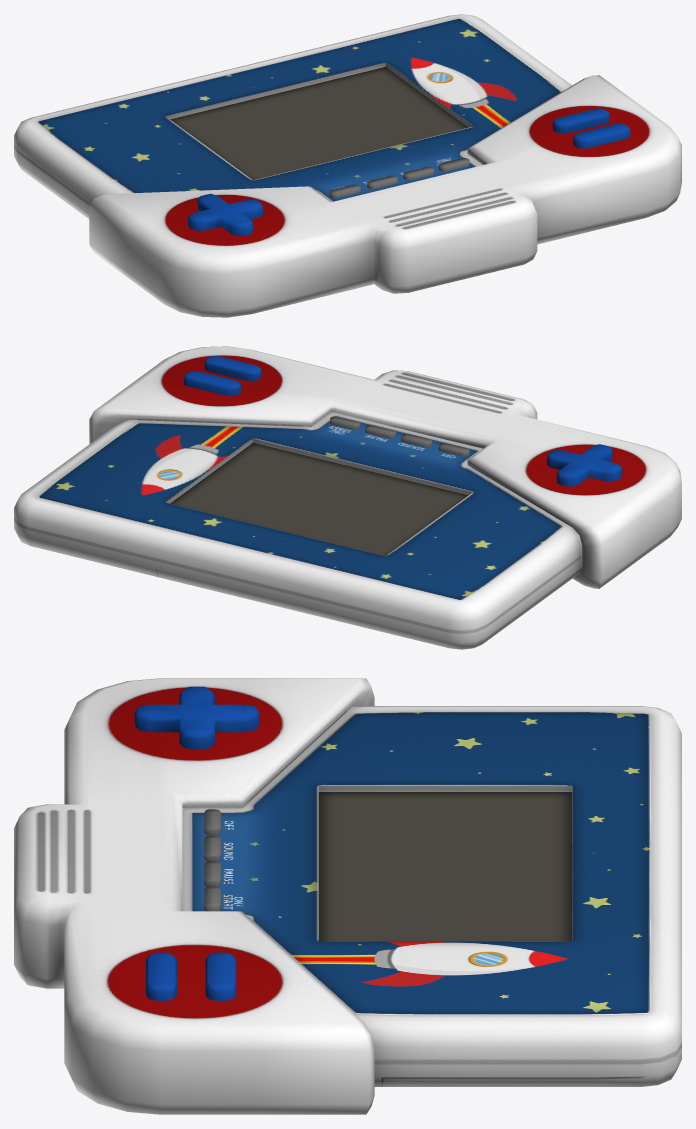
File: handheld_03.fbx
3 renders of one model, top to bottom at view 1: azimuth 30°, elevation 25°; view 2: azimuth 150°, elevation 25°; view 3: azimuth 270°, elevation 25°, orthographic. The views are drawn at different scales.
Visible parts, largest first — view 1: handheld_03; view 2: handheld_03; view 3: handheld_03.
Boxes of the visible parts, x1,y1,x2,y2 form: handheld_03: (14, 14, 681, 317); handheld_03: (14, 346, 681, 649); handheld_03: (14, 678, 681, 1114).
Size of the model in its own units: 55.05 by 7.36 by 42.83.
